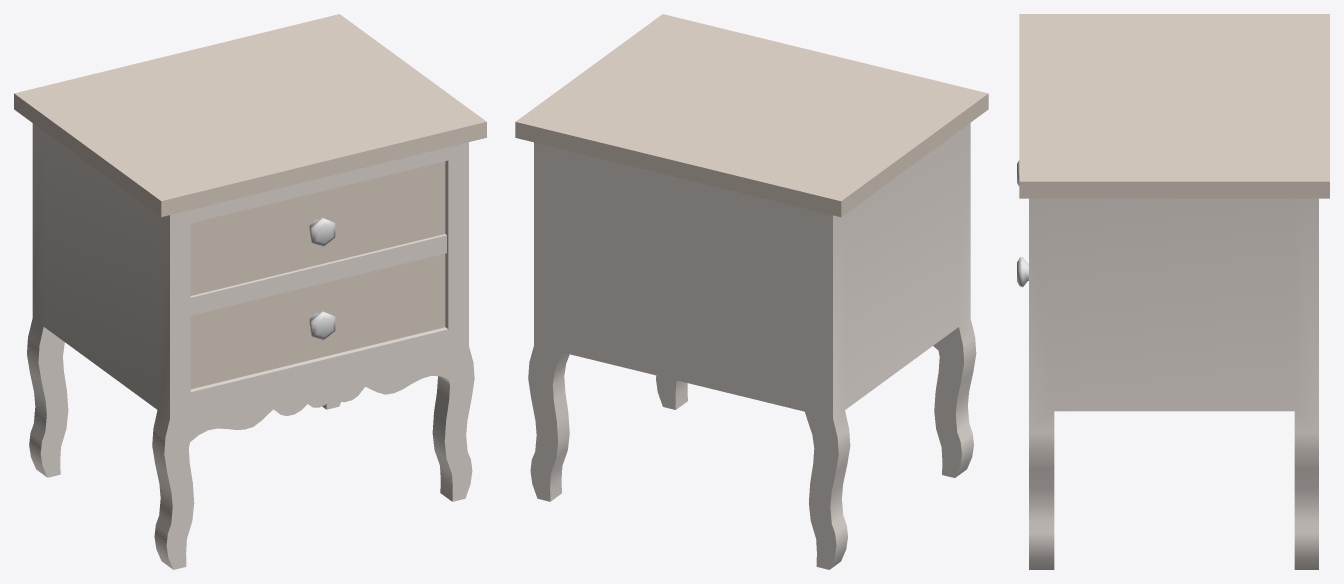
Rendered from table_A.fbx.
3 renders of one model, left to right at view 1: azimuth 30°, elevation 25°; view 2: azimuth 150°, elevation 25°; view 3: azimuth 270°, elevation 25°, orthographic. The views are drawn at different scales.
Visible parts, largest first — view 1: polySurface134, polySurface133, polySurface137, polySurface138; view 2: polySurface134, polySurface133; view 3: polySurface134, polySurface133.
Boxes of the visible parts, <box> form: polySurface134: <box>27,123,474,569</box>; polySurface133: <box>14,14,486,216</box>; polySurface137: <box>190,161,445,389</box>; polySurface138: <box>309,217,335,340</box>; polySurface134: <box>528,123,976,569</box>; polySurface133: <box>515,14,988,217</box>; polySurface134: <box>1029,198,1318,569</box>; polySurface133: <box>1019,14,1329,198</box>.
Bounding box in the file's own units: 62.52 × 69.05 × 49.3.
